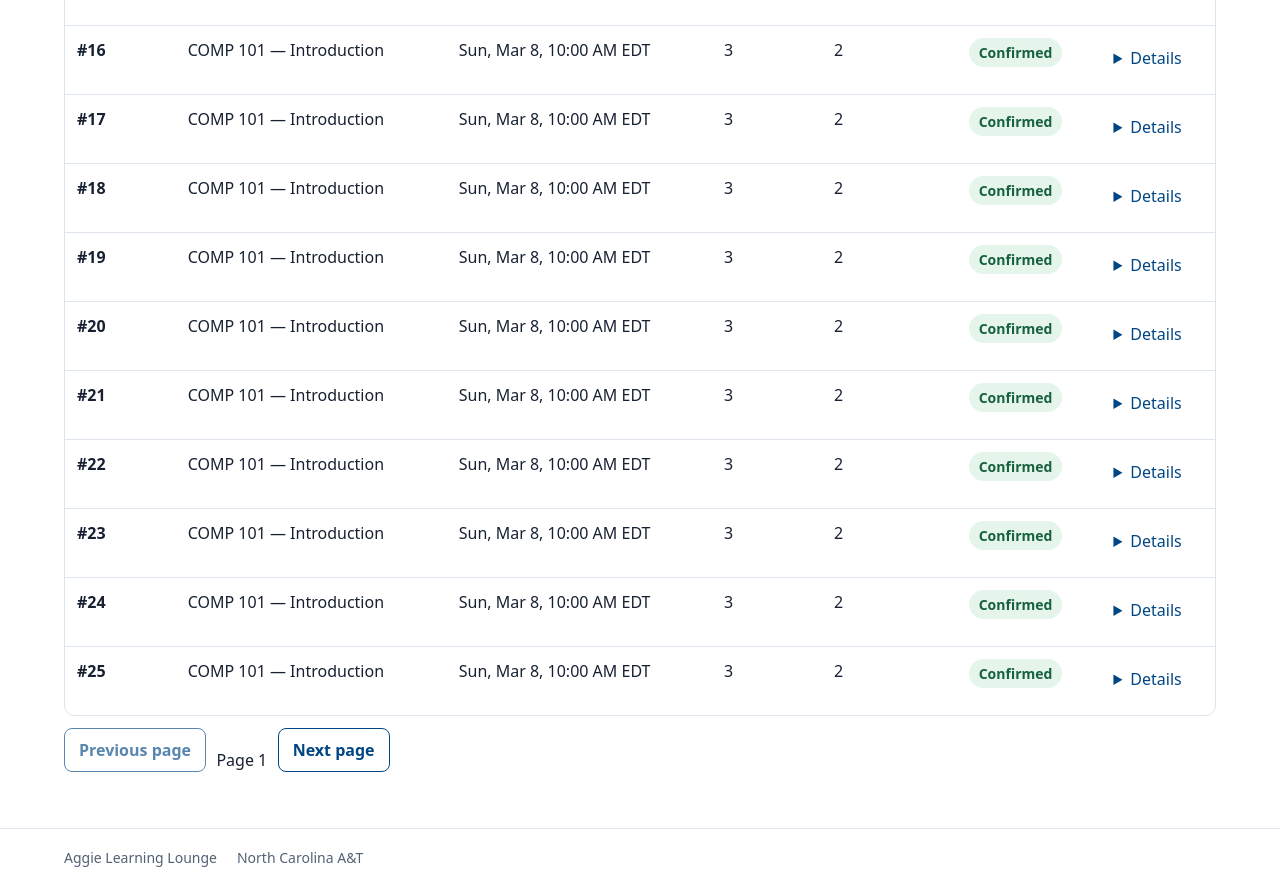
it: Phase 5 — Admin support and pilot readiness › pages by 25 records and refuses invalid IDs without sending a request
(page scrolled)
Click the button "Next page". click: click(334, 750)
box: x1=278 y1=728 x2=390 y2=772
(page scrolled)
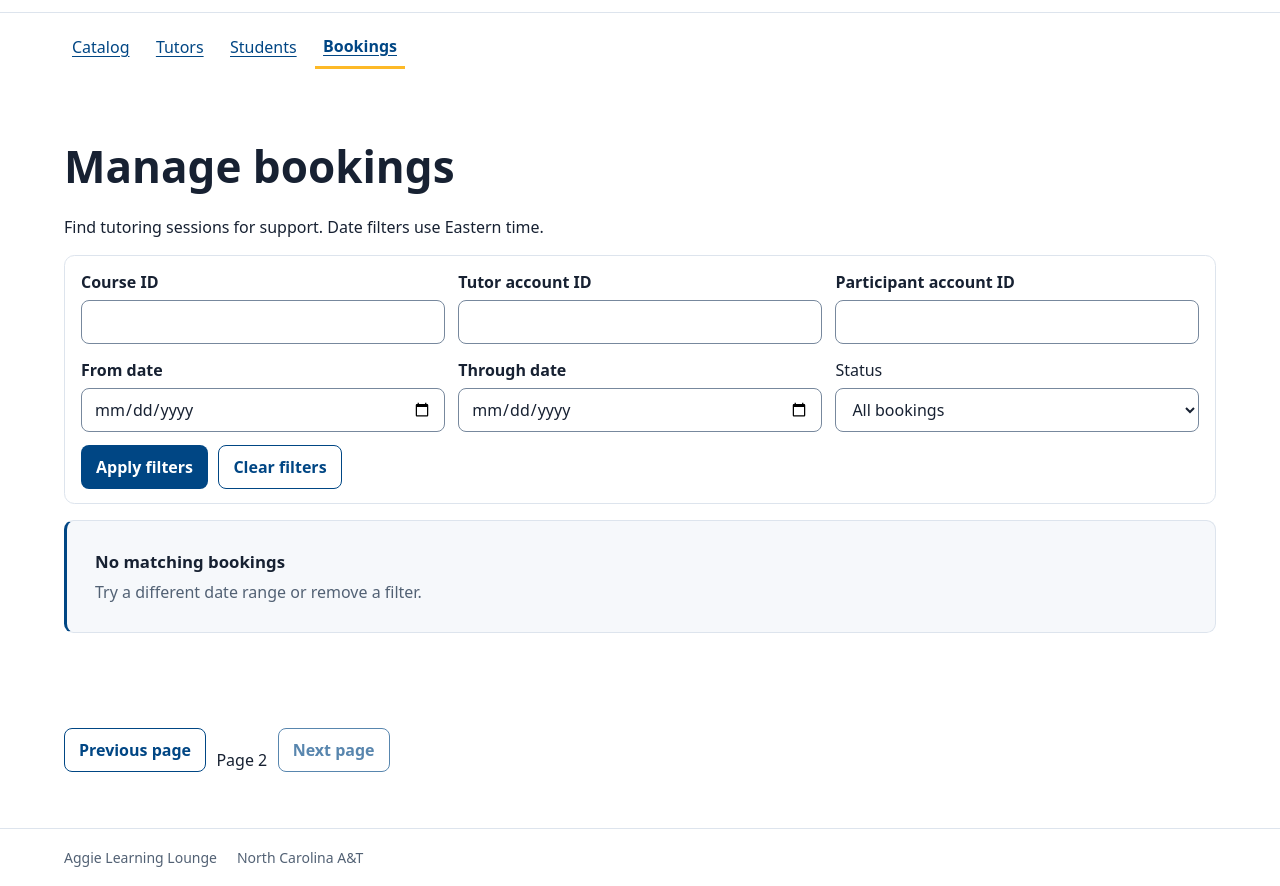
Expected: the heading "No matching bookings" is shown, x1=95 y1=550 x2=285 y2=573
Type "9223372036854775808" into the field labelled "Course ID". click: (263, 322)
box: x1=81 y1=300 x2=445 y2=344
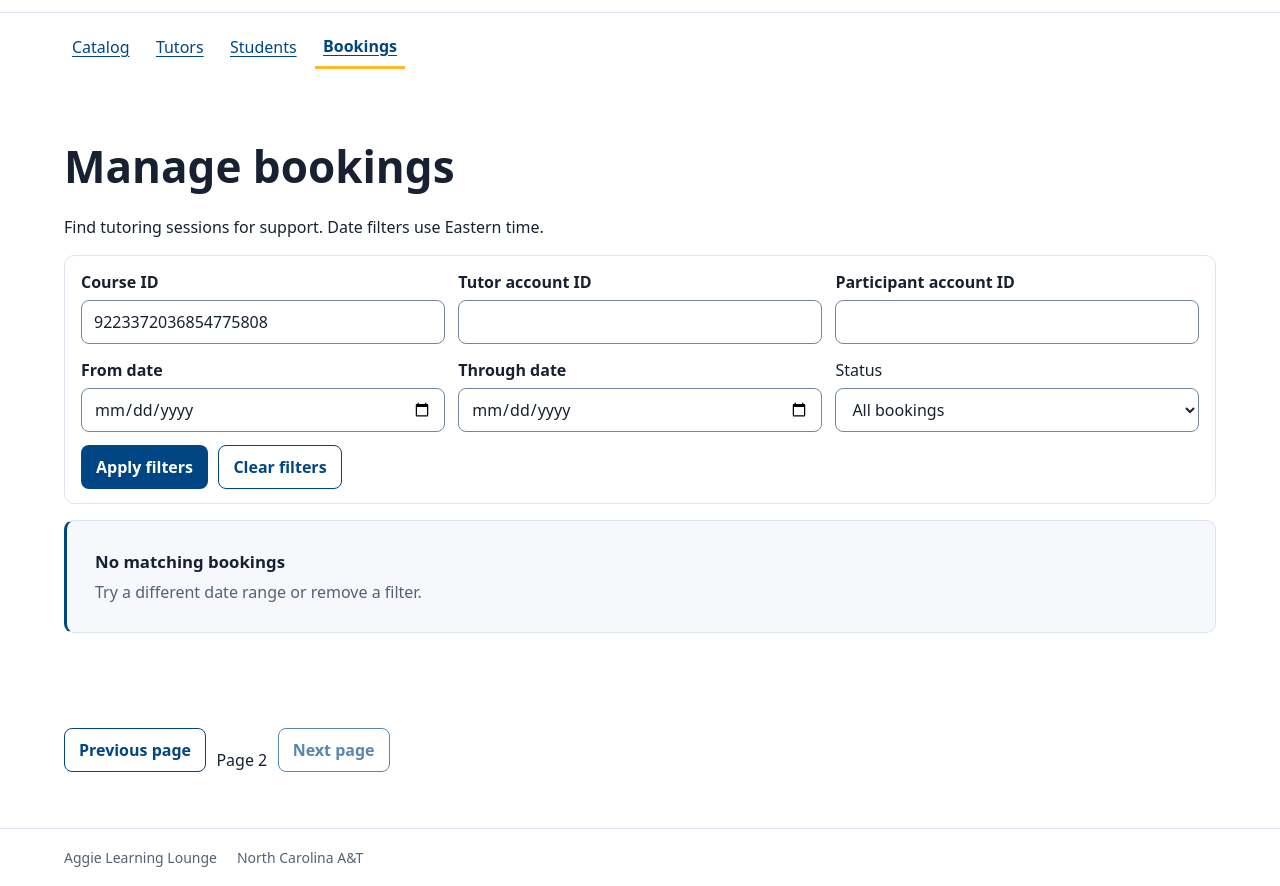
Click the button "Apply filters". click: click(144, 467)
box: x1=81 y1=445 x2=208 y2=489
(page scrolled)
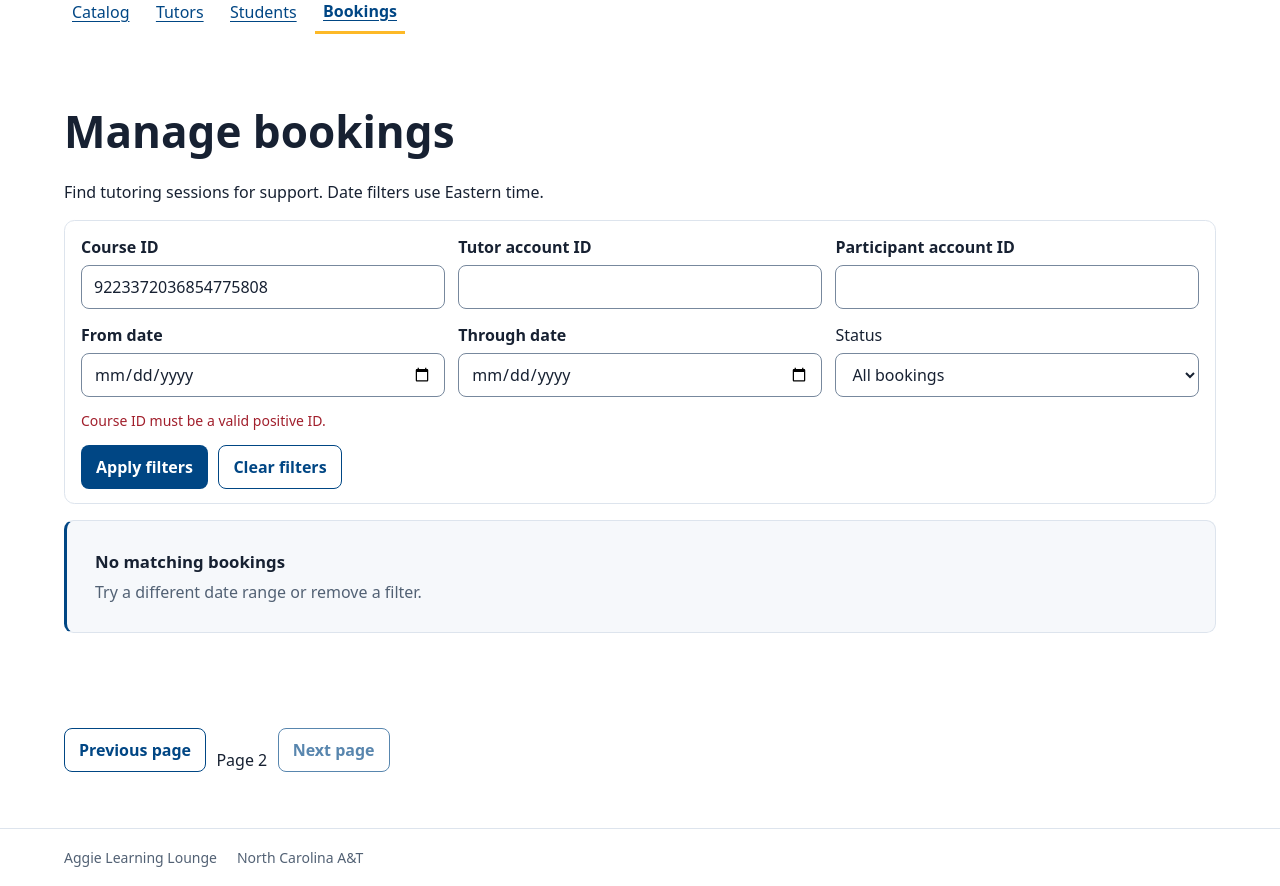
Expected: the message reads "Course ID must be a valid positive ID.", x1=81 y1=411 x2=326 y2=430
